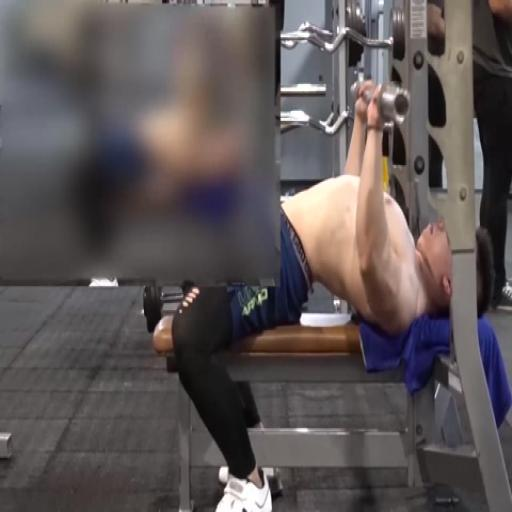exercise: (150, 78, 511, 511)
